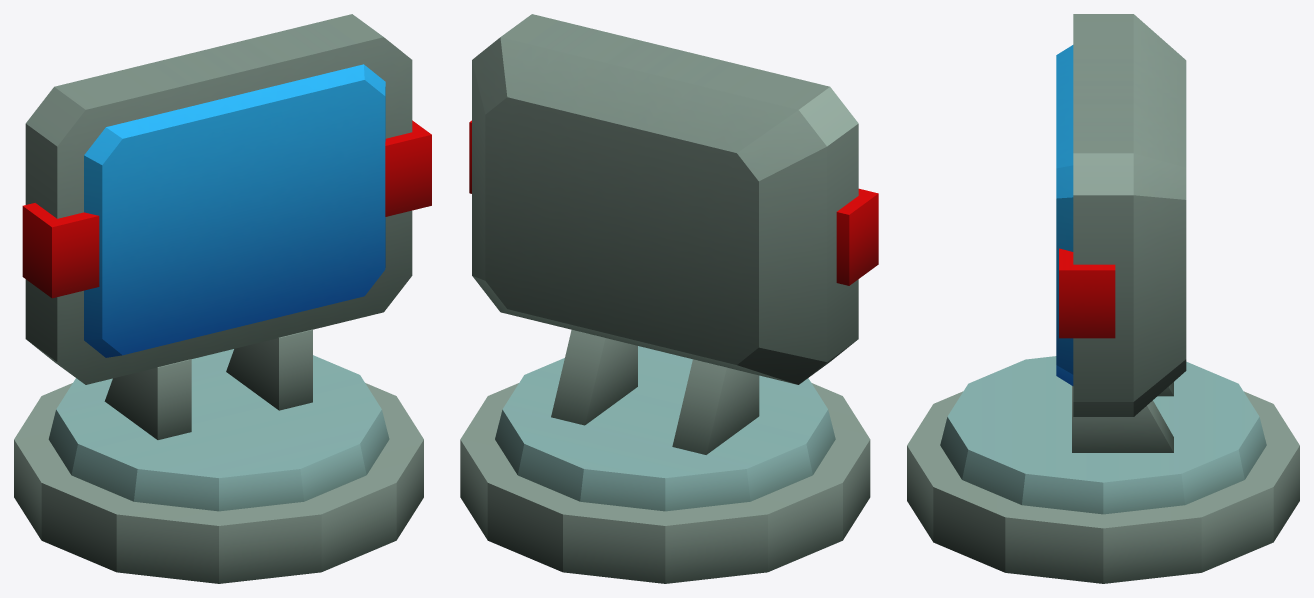
The picture shows the model from 3 angles, left to right: view 1: azimuth 30°, elevation 25°; view 2: azimuth 150°, elevation 25°; view 3: azimuth 270°, elevation 25°; orthographic projection. The views are drawn at different scales.
Visible parts, largest first — view 1: object.004; view 2: object.004; view 3: object.004.
Boxes of the visible parts, box(x1,y1,x2,y2) form: object.004: box(14, 14, 431, 583); object.004: box(460, 14, 878, 583); object.004: box(907, 14, 1299, 583).
Bounding box in the file's own units: 166 × 181 × 155.
